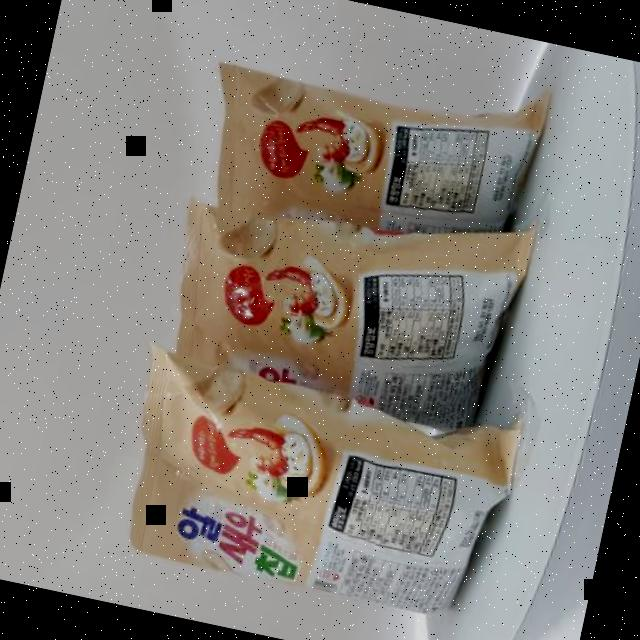snack_bag: (83, 5, 610, 640)
